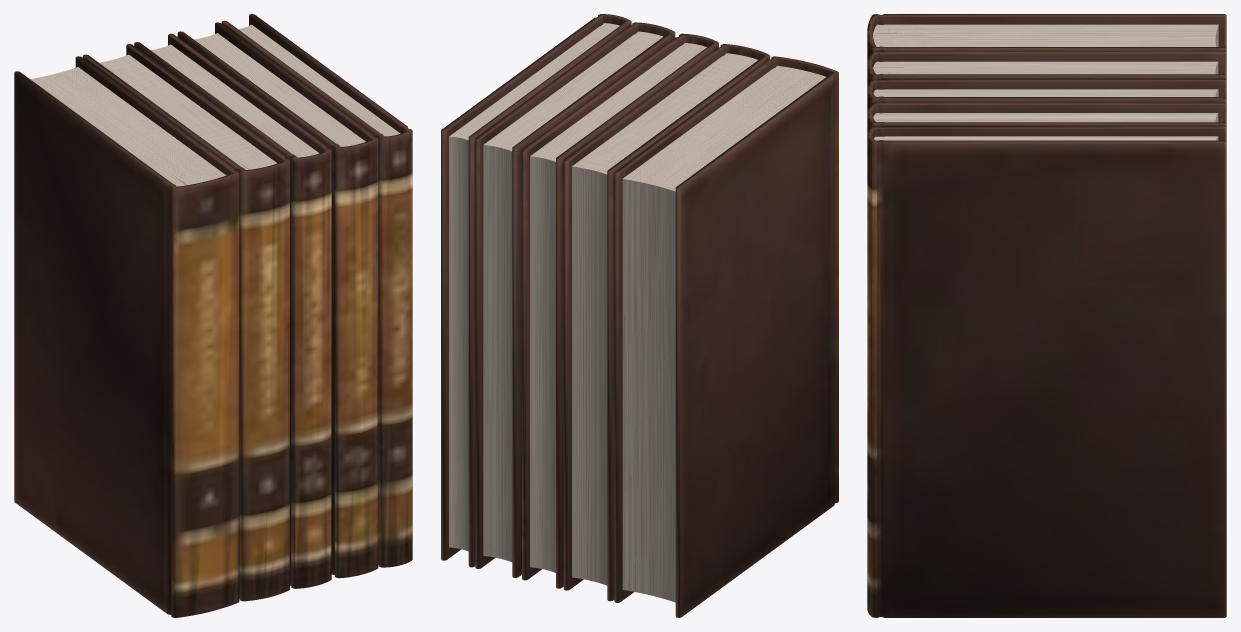
Rendered from volumes.glb.
3 views of the same model, side by side, from view 1: azimuth 30°, elevation 25°; view 2: azimuth 150°, elevation 25°; view 3: azimuth 270°, elevation 25° (orthographic). The views are drawn at different scales.
Visible parts, largest first — view 1: book_encyclopedia_set_01_book01; view 2: book_encyclopedia_set_01_book01; view 3: book_encyclopedia_set_01_book01.
Part boxes in pixels (bbox=[...]): book_encyclopedia_set_01_book01: bbox=[14, 14, 412, 617]; book_encyclopedia_set_01_book01: bbox=[441, 14, 838, 617]; book_encyclopedia_set_01_book01: bbox=[867, 14, 1226, 617].
Size of the model in its own units: 0.1392 by 0.2374 by 0.1631.
Materials: 2 (2 with a texture image).
